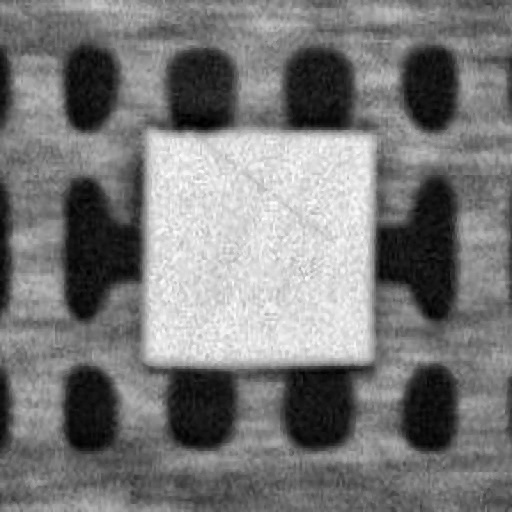DIE_CRACK: (292, 88, 496, 160)
